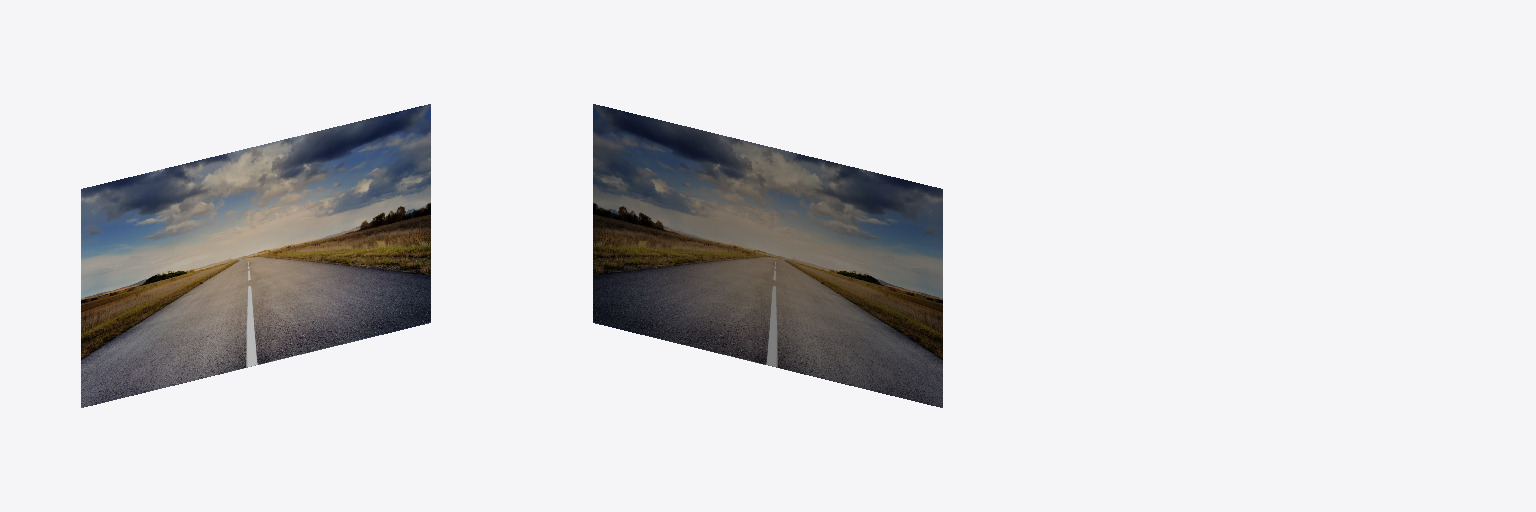
3 renders of one model, left to right at view 1: azimuth 30°, elevation 25°; view 2: azimuth 150°, elevation 25°; view 3: azimuth 270°, elevation 25°, orthographic.
Parts seen in each view (by area): view 1: Plane_Plane.001; view 2: Plane_Plane.001; view 3: none.
Boxes of the visible parts, <box> form: Plane_Plane.001: <box>81,104,430,407</box>; Plane_Plane.001: <box>593,104,942,407</box>.
Bounding box in the file's own units: 29.3 × 17.54 × 0.
1 materials, 1 textured.